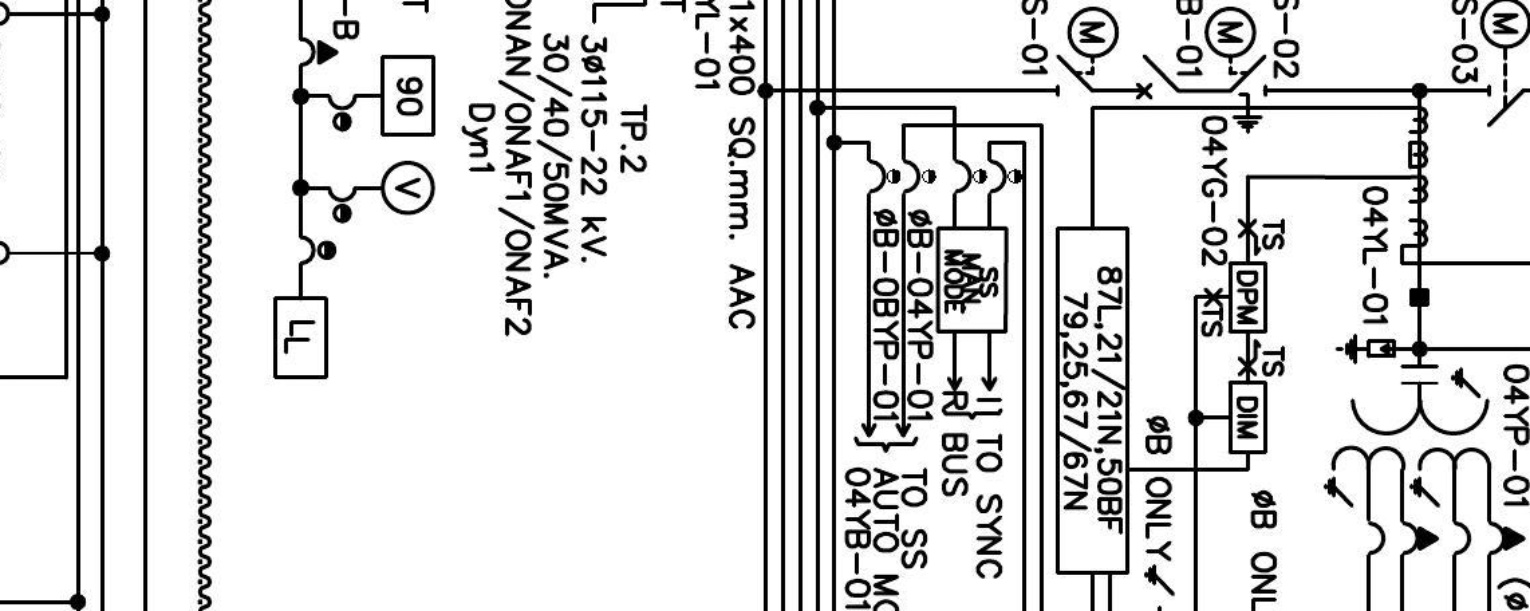115_1way_ds_w_motor: (1055, 5, 1120, 97)
115_3ways_ds_w_motor: (1203, 6, 1268, 135)
115_breaker: (1136, 54, 1180, 100)
115_cvt_1p: (1322, 363, 1527, 559)
115_la: (1334, 333, 1396, 365)
DIM: (1228, 381, 1268, 454)
DPM: (1228, 261, 1268, 334)
LL: (273, 296, 329, 380)
ss_man_mode: (935, 226, 1009, 334)
v_m: (380, 160, 436, 216)
